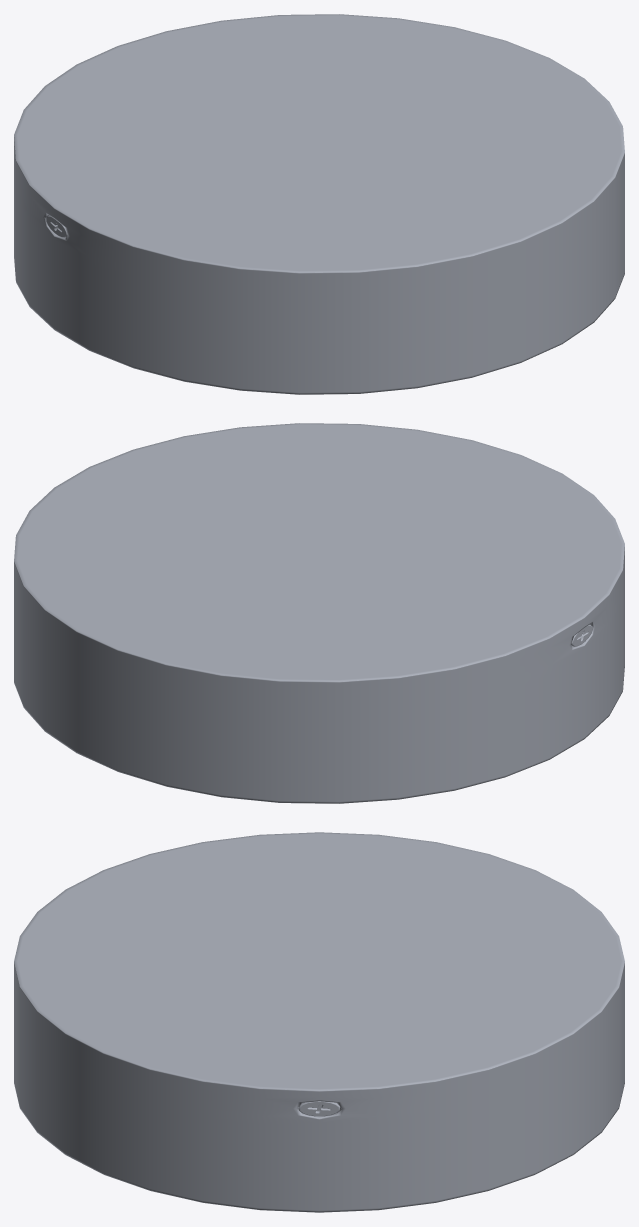
The picture shows the model from 3 angles, top to bottom: view 1: azimuth 30°, elevation 25°; view 2: azimuth 150°, elevation 25°; view 3: azimuth 270°, elevation 25°; orthographic projection.
Parts seen in each view (by area): view 1: x_Zolla_Lightstar:Cylinder002; view 2: x_Zolla_Lightstar:Cylinder002; view 3: x_Zolla_Lightstar:Cylinder002.
Boxes of the visible parts, x1,y1,x2,y2 form: x_Zolla_Lightstar:Cylinder002: (14, 14, 624, 394); x_Zolla_Lightstar:Cylinder002: (14, 423, 624, 803); x_Zolla_Lightstar:Cylinder002: (14, 832, 624, 1212).
Size of the model in its own units: 1.88 by 0.4184 by 1.88.
1 material, 1 textured.
